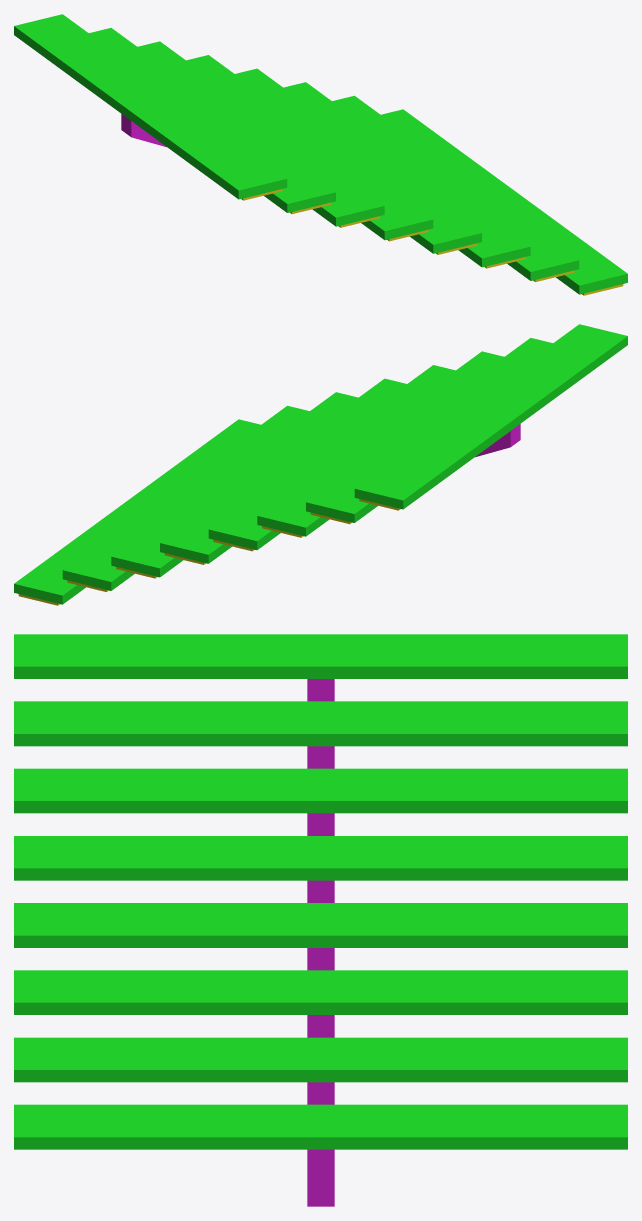
The model's file is Stairs_06.fbx.
3 views of the same model, one above another, from view 1: azimuth 30°, elevation 25°; view 2: azimuth 150°, elevation 25°; view 3: azimuth 270°, elevation 25° (orthographic). The views are drawn at different scales.
Parts seen in each view (by area): view 1: Stairs_06; view 2: Stairs_06; view 3: Stairs_06.
Part boxes in pixels (box(x1,y1,x2,y2)): Stairs_06: box(14, 14, 627, 295); Stairs_06: box(14, 324, 627, 605); Stairs_06: box(14, 634, 627, 1206).
Size of what is drawn, in the model's own units: 229 by 129 by 229.
